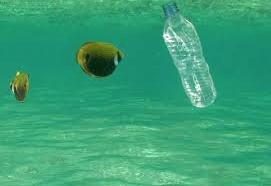Plastic: (157, 3, 216, 119)
